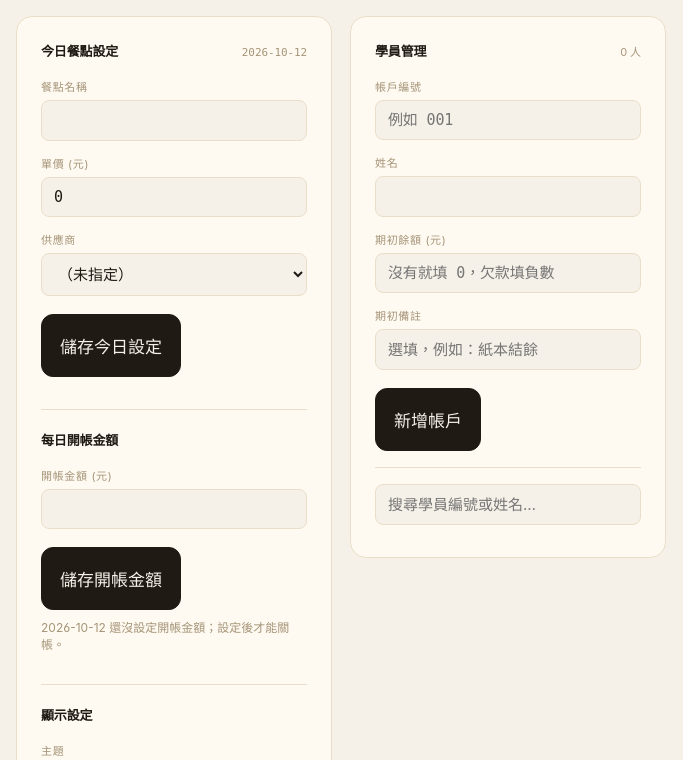
Scenario: AdminScreen practice data (local mode) › blank opening balance is an error, not 0
Type "001" into the field labelled "帳戶編號".
click(508, 120); type("001")  # box x1=375 y1=100 x2=641 y2=140
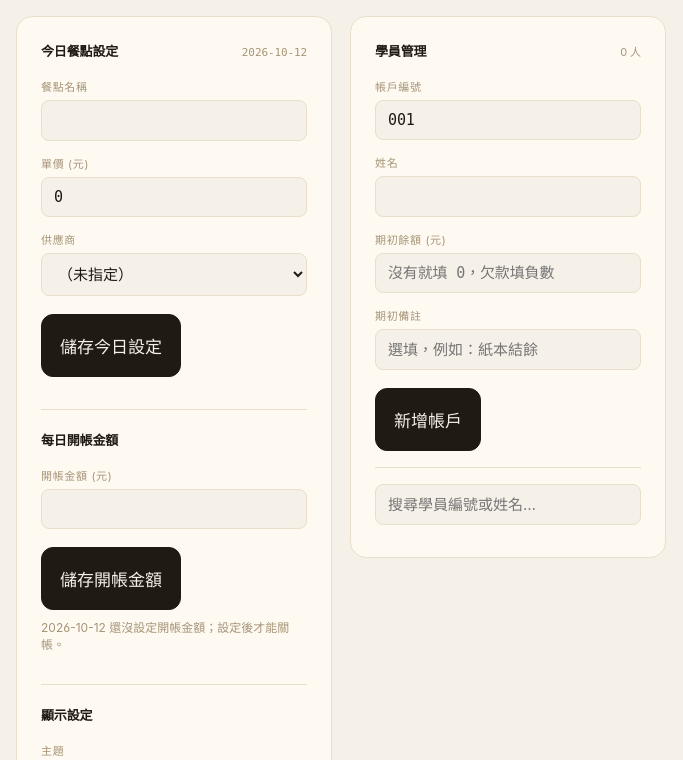
Type "甲生" into the field labelled "姓名".
click(508, 196); type("甲生")  # box x1=375 y1=176 x2=641 y2=217
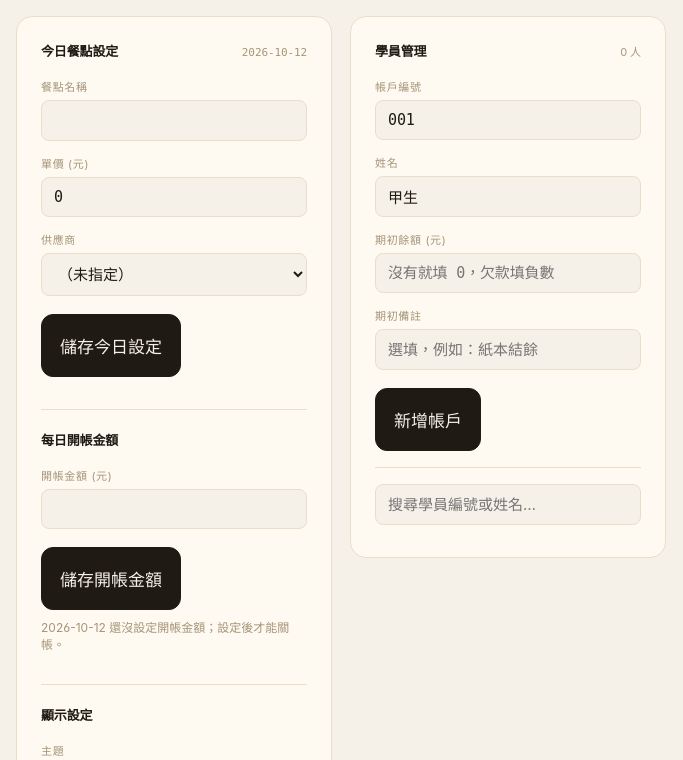
Click the button "新增帳戶".
click(428, 420)  # box x1=375 y1=388 x2=481 y2=451
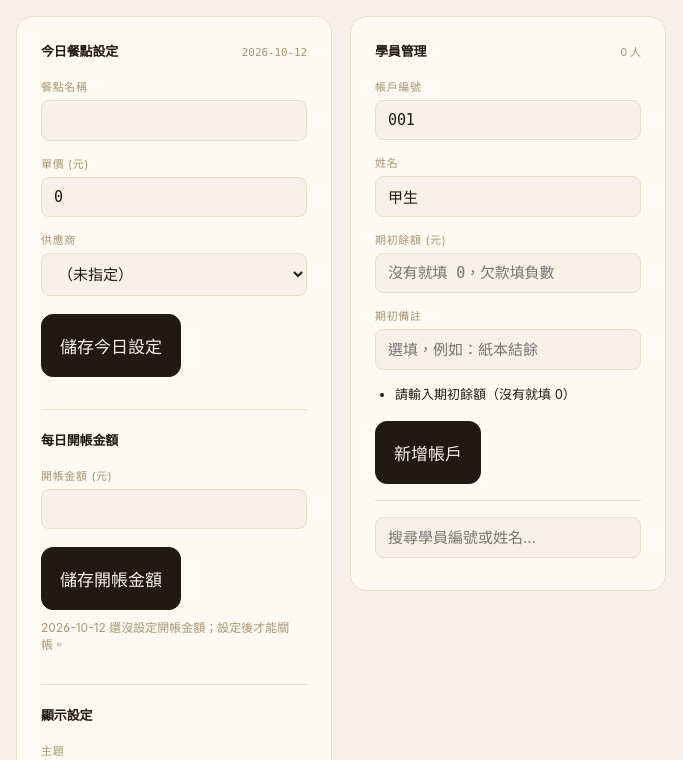
Expected: the message shows "沒有就填 0", x1=395 y1=386 x2=576 y2=402
